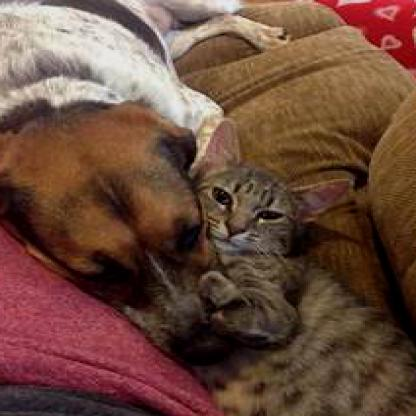cat: (192, 120, 416, 414)
dog: (2, 0, 290, 371)
